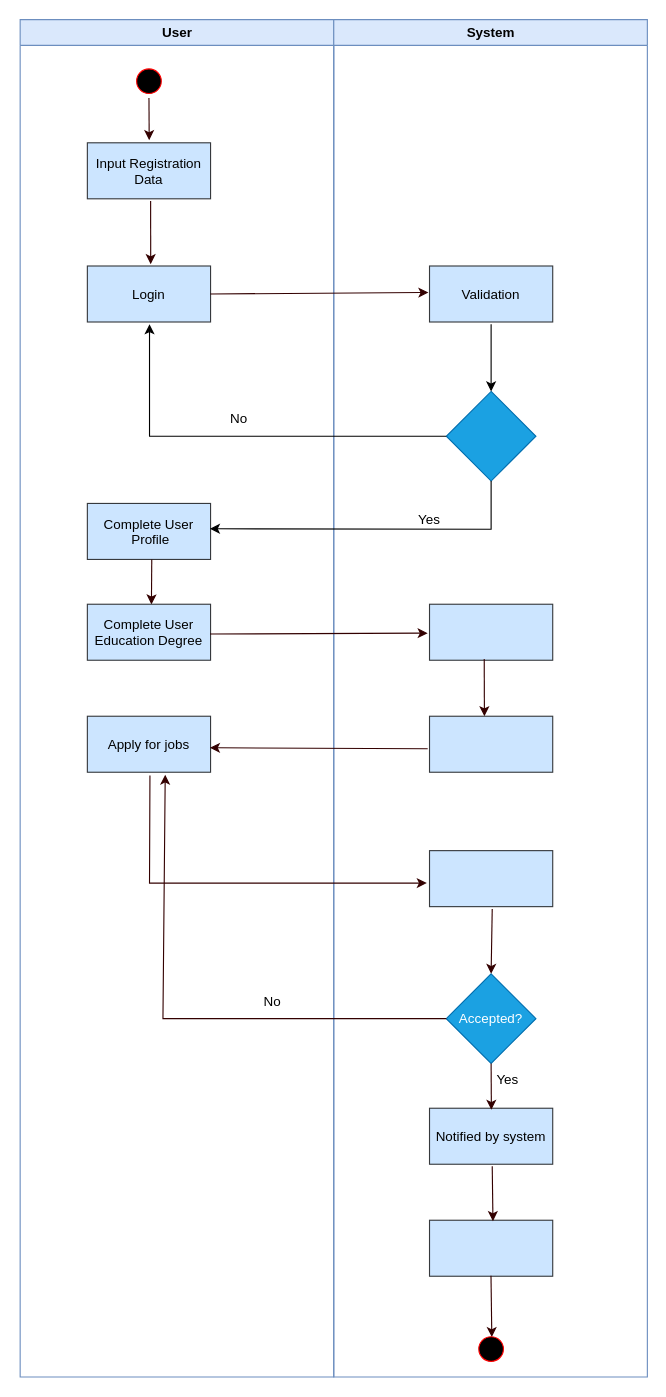
Image size: 666x1397. Some labels were removed from this diagram. The shapes that lost their labels are listed below. From the top down, each one's box as (x1, y1, x2, y2) in pixels, then its label:
(445, 390, 536, 481): Correct?
(428, 603, 553, 660): Save user informations
(428, 715, 553, 772): Show home page
(428, 850, 553, 907): Checking for job status
(428, 1219, 553, 1276): Sends follow up letter from company
